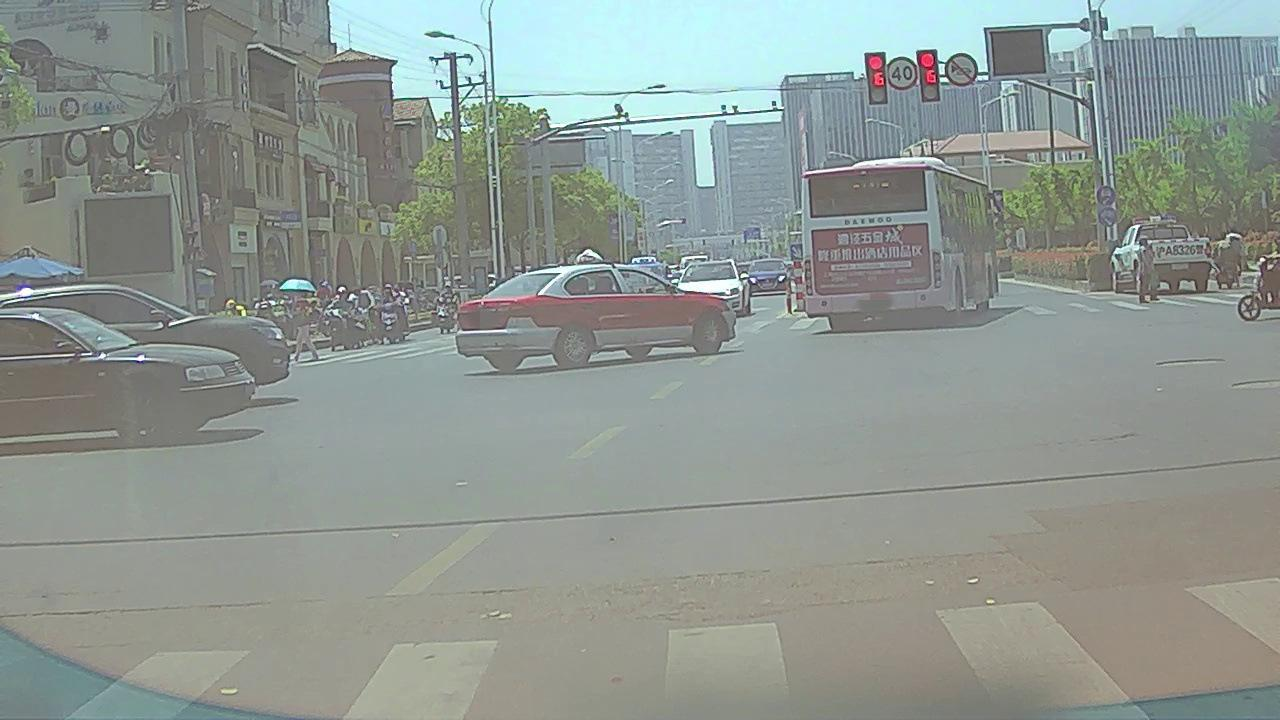traffic_light: (919, 48, 940, 103), (865, 52, 887, 103)
